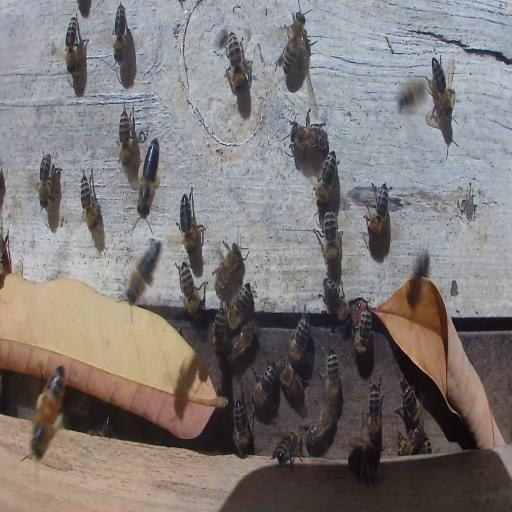nonpollenbee: (289, 109, 327, 161), (426, 54, 455, 122), (278, 10, 307, 76), (177, 187, 204, 257), (177, 258, 205, 320), (302, 404, 337, 453), (348, 438, 382, 488), (214, 240, 246, 290), (323, 278, 352, 332), (79, 166, 101, 234), (226, 34, 250, 96), (365, 181, 390, 238), (314, 150, 338, 208), (318, 209, 342, 266), (320, 346, 341, 408), (225, 282, 252, 330), (271, 431, 304, 469), (355, 298, 374, 362), (232, 398, 252, 458), (36, 148, 54, 212), (286, 315, 310, 362), (279, 358, 301, 407), (252, 364, 277, 406), (400, 380, 421, 426), (367, 382, 382, 446), (112, 2, 127, 63), (118, 106, 132, 170), (398, 80, 429, 108), (230, 323, 254, 359), (398, 424, 426, 454), (65, 14, 78, 75), (211, 312, 227, 358), (1, 228, 11, 276)
pollenbee: (29, 363, 68, 460), (124, 236, 162, 308), (133, 130, 163, 218)
